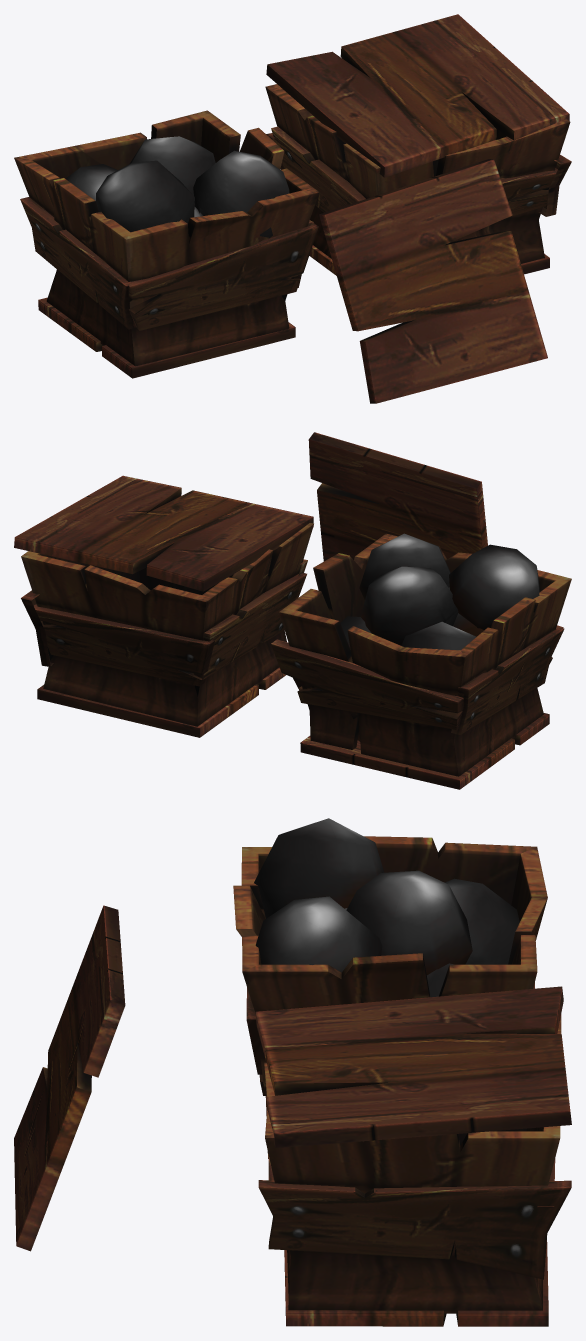
Rendered from xiangzi.FBX.
3 views of the same model, one above another, from view 1: azimuth 30°, elevation 25°; view 2: azimuth 150°, elevation 25°; view 3: azimuth 270°, elevation 25° (orthographic). The views are drawn at different scales.
Visible parts, largest first — view 1: xiangzi01, xiangzi02, xiangzi01_top01; view 2: xiangzi02, xiangzi01, xiangzi01_top01; view 3: xiangzi02, xiangzi01, xiangzi01_top01.
Boxes of the visible parts, <box> form: xiangzi01: <box>14,110,319,378</box>; xiangzi02: <box>265,14,571,275</box>; xiangzi01_top01: <box>319,159,547,403</box>; xiangzi02: <box>14,475,313,737</box>; xiangzi01: <box>271,533,571,789</box>; xiangzi01_top01: <box>308,432,487,561</box>; xiangzi02: <box>255,986,571,1326</box>; xiangzi01: <box>233,818,547,1158</box>; xiangzi01_top01: <box>14,905,125,1251</box>.
Size of the model in its own units: 98.87 by 39.11 by 78.92.
